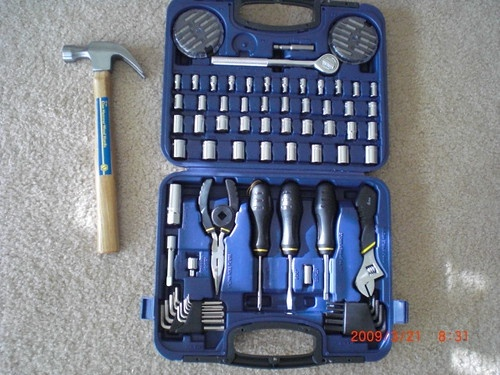hammer: (60, 42, 146, 254)
